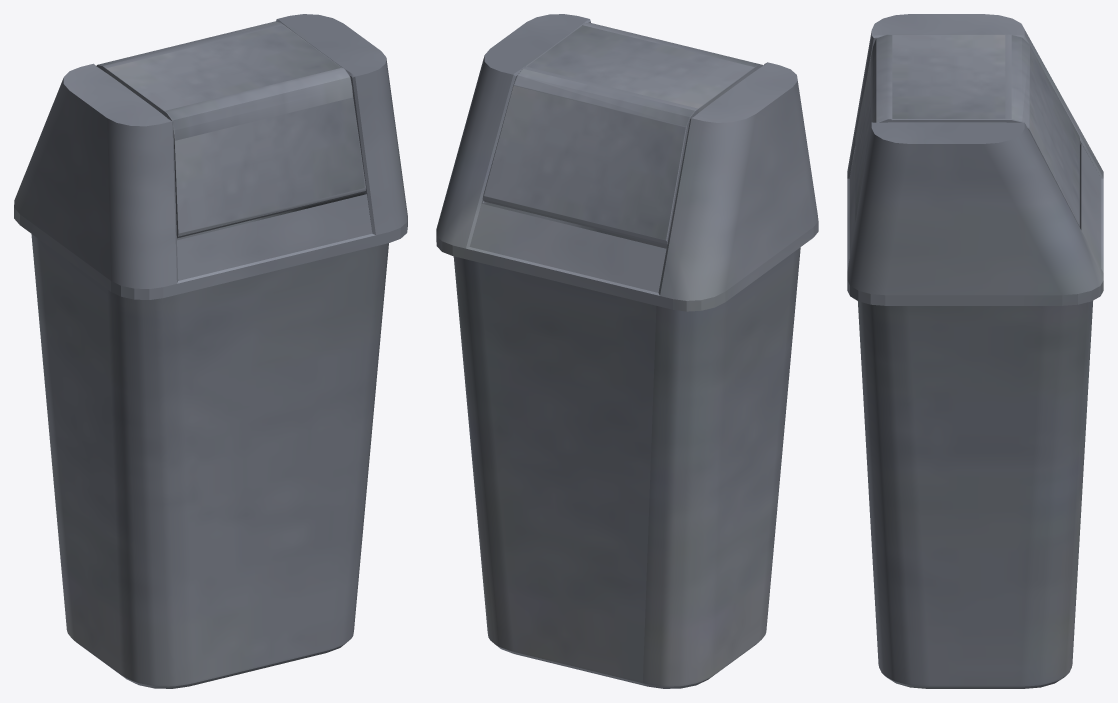
Rendered from Bin_Large.fbx.
The picture shows the model from 3 angles, left to right: view 1: azimuth 30°, elevation 25°; view 2: azimuth 150°, elevation 25°; view 3: azimuth 270°, elevation 25°; orthographic projection. The views are drawn at different scales.
Parts seen in each view (by area): view 1: pCube2, pCube3, pCube4; view 2: pCube2, pCube3, pCube4; view 3: pCube2, pCube3, pCube4.
Boxes of the visible parts, left/top/right/bottom form: pCube2: left=31, top=192, right=388, bottom=688; pCube3: left=14, top=14, right=407, bottom=299; pCube4: left=96, top=21, right=366, bottom=238; pCube2: left=453, top=201, right=800, bottom=688; pCube3: left=436, top=14, right=818, bottom=311; pCube4: left=482, top=22, right=763, bottom=245; pCube2: left=858, top=301, right=1092, bottom=688; pCube3: left=847, top=14, right=1103, bottom=305; pCube4: left=855, top=34, right=1079, bottom=227.
Bounding box in the file's own units: 50.36 × 95.1 × 39.46.
Materials: 2 (2 with a texture image).
